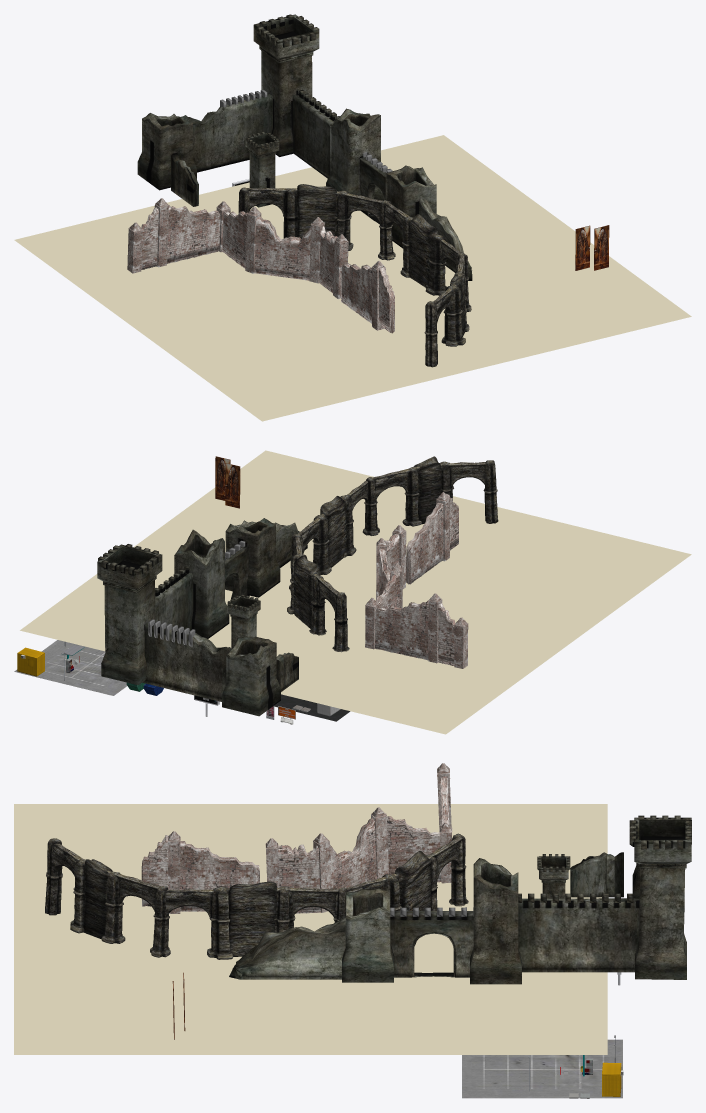
3 renders of one model, top to bottom at view 1: azimuth 30°, elevation 25°; view 2: azimuth 150°, elevation 25°; view 3: azimuth 270°, elevation 25°, orthographic. The views are drawn at different scales.
Parts seen in each view (by area): view 1: Terrain 3,5, ruines chateau (×10), mur mesh (×9), OasisRuins#17, OasisRuins#6, Door (×2), OasisRuins#9, ruines tour carree, OasisRuins#2, OasisRuins#4, OasisRuins#7, OasisRuins#12 (+4 smaller); view 2: Terrain 3,5, ruines chateau (×11), mur mesh (×7), Ground Car Parking Concrete (×2), OasisRuins#17, OasisRuins#6, OasisRuins#18, Door (×2), OasisRuins#4, OasisRuins#8, OasisRuins#16, OasisRuins#11 (+9 smaller); view 3: Terrain 3,5, ruines chateau (×9), mur mesh (×6), Ground Car Parking Concrete, OasisRuins#6, OasisRuins#18, OasisRuins#17, OasisRuins#2, OasisRuins#11, OasisRuins#15, OasisRuins#14, OasisRuins#4 (+10 smaller).
Boxes of the visible parts, bbox=[...] form: Terrain 3,5: bbox=[14, 135, 691, 421]; ruines chateau (×10): bbox=[137, 14, 472, 280]; mur mesh (×9): bbox=[127, 204, 394, 332]; OasisRuins#17: bbox=[296, 184, 336, 239]; OasisRuins#6: bbox=[408, 214, 438, 287]; Door (×2): bbox=[575, 225, 609, 270]; OasisRuins#9: bbox=[441, 285, 465, 346]; ruines tour carree: bbox=[249, 152, 275, 207]; OasisRuins#2: bbox=[425, 234, 446, 295]; OasisRuins#4: bbox=[424, 301, 437, 367]; OasisRuins#7: bbox=[247, 188, 297, 215]; OasisRuins#12: bbox=[334, 190, 353, 250]; Terrain 3,5: bbox=[20, 450, 691, 734]; ruines chateau (×11): bbox=[97, 518, 307, 716]; mur mesh (×7): bbox=[365, 502, 468, 668]; Ground Car Parking Concrete (×2): bbox=[14, 640, 350, 721]; OasisRuins#17: bbox=[293, 555, 319, 628]; OasisRuins#6: bbox=[320, 496, 347, 567]; OasisRuins#18: bbox=[414, 456, 441, 524]; Door (×2): bbox=[215, 456, 240, 508]; OasisRuins#4: bbox=[483, 460, 498, 523]; OasisRuins#8: bbox=[332, 592, 349, 652]; OasisRuins#16: bbox=[312, 515, 331, 575]; OasisRuins#11: bbox=[402, 466, 421, 526]; Terrain 3,5: bbox=[14, 804, 607, 1054]; ruines chateau (×9): bbox=[229, 817, 691, 984]; mur mesh (×6): bbox=[141, 813, 441, 913]; Ground Car Parking Concrete: bbox=[462, 1039, 622, 1098]; OasisRuins#6: bbox=[228, 881, 277, 956]; OasisRuins#18: bbox=[83, 859, 112, 939]; OasisRuins#17: bbox=[394, 851, 431, 910]; OasisRuins#2: bbox=[207, 886, 235, 959]; OasisRuins#11: bbox=[101, 871, 125, 943]; OasisRuins#15: bbox=[150, 886, 170, 957]; OasisRuins#14: bbox=[276, 887, 338, 918]; OasisRuins#4: bbox=[45, 838, 62, 915].
Size of the model in its own units: 64.06 by 22.92 by 73.08.
53 materials, 52 textured.
